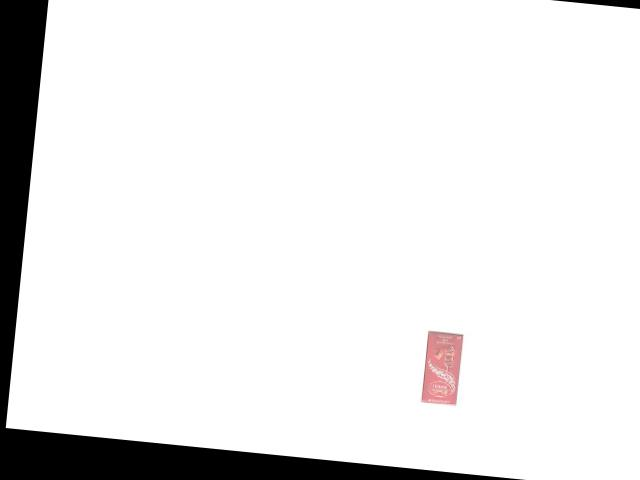chocolate: (419, 325, 466, 407)
